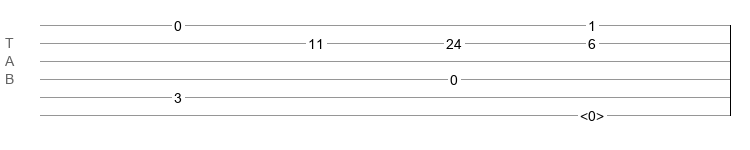0: (174, 18, 182, 28), (450, 72, 458, 82)
1: (588, 18, 596, 28)
11: (308, 36, 324, 46)
24: (446, 36, 462, 46)
3: (174, 90, 182, 100)
6: (588, 36, 596, 46)
harmonic: (580, 108, 604, 118)
